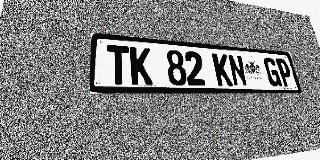2: (184, 51, 206, 86)
8: (165, 49, 188, 85)
G: (263, 57, 282, 87)
K: (130, 46, 153, 85), (212, 53, 233, 86)
N: (227, 54, 248, 86)
P: (275, 58, 294, 87)
T: (107, 45, 130, 85)
